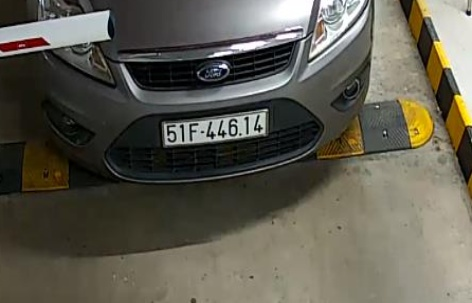plate: (155, 109, 279, 151)
